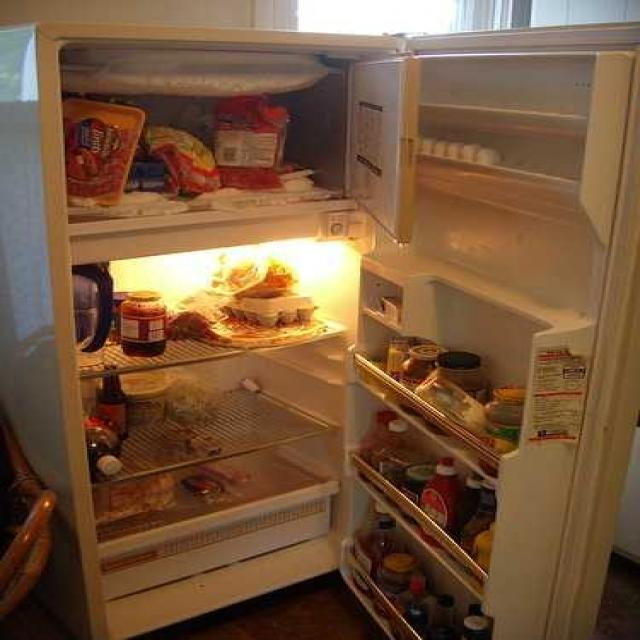refrigerator: (34, 20, 607, 640)
